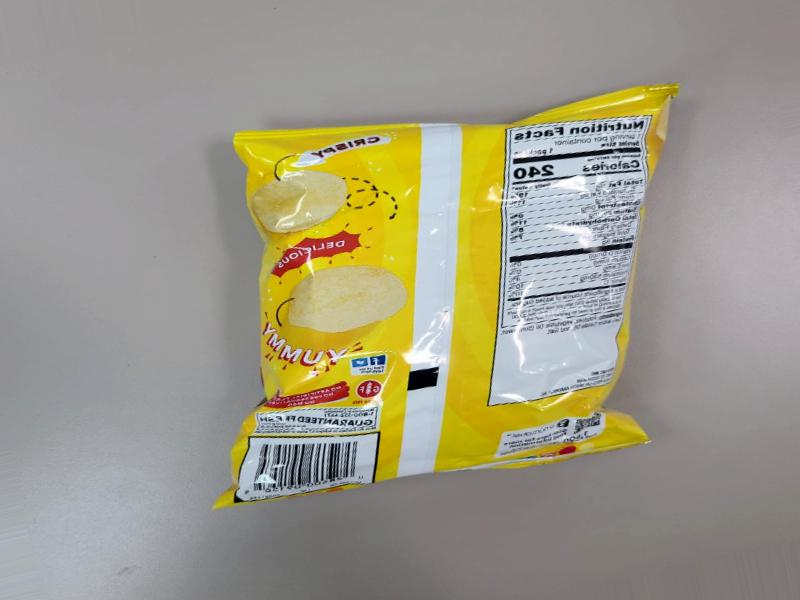lays: (323, 120, 683, 528)
